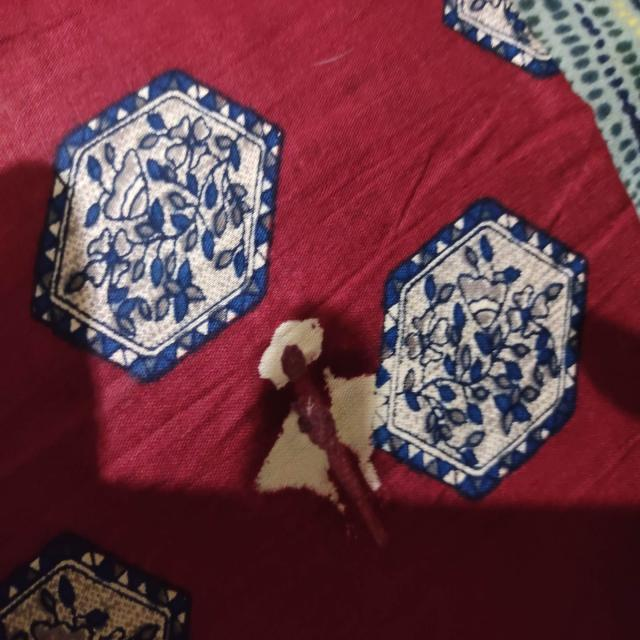stain: (266, 304, 374, 512)
